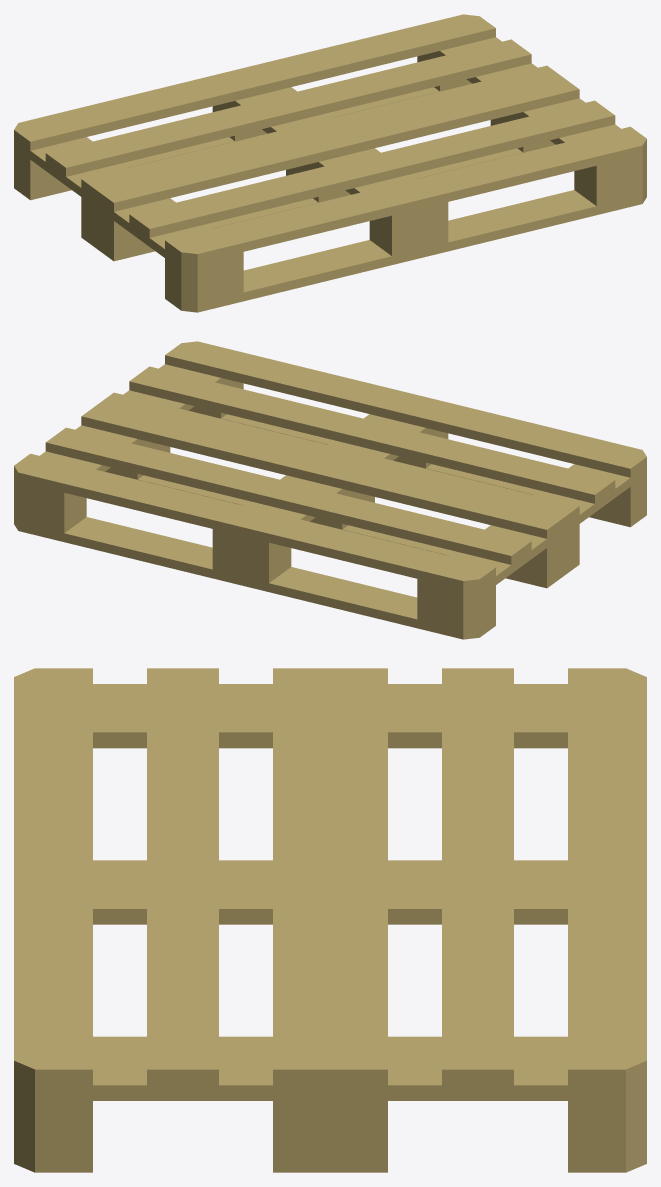
The model's file is pallet.fbx.
3 renders of one model, top to bottom at view 1: azimuth 30°, elevation 25°; view 2: azimuth 150°, elevation 25°; view 3: azimuth 270°, elevation 25°, orthographic. The views are drawn at different scales.
Parts seen in each view (by area): view 1: Palette; view 2: Palette; view 3: Palette.
Part boxes in pixels (bbox=[...]): Palette: bbox=[14, 14, 646, 312]; Palette: bbox=[14, 341, 646, 639]; Palette: bbox=[14, 668, 646, 1172].
Bounding box in the file's own units: 120 × 14.4 × 80.
